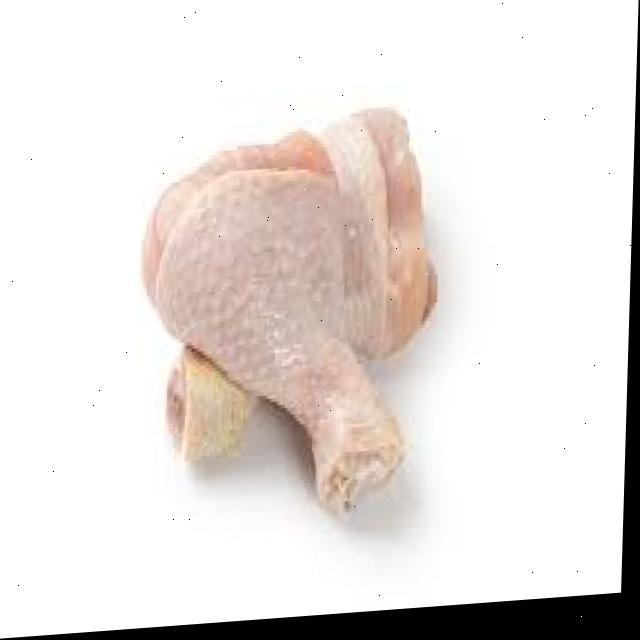leg: (118, 115, 442, 462), (120, 127, 404, 522)
